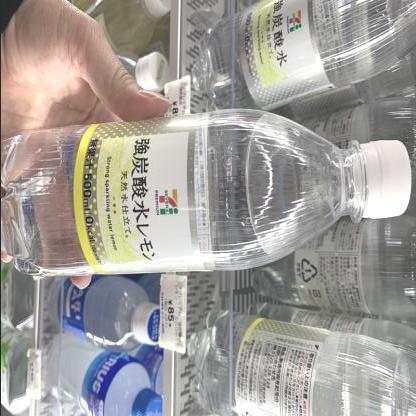bottle: (0, 108, 414, 278), (187, 0, 416, 115), (189, 309, 416, 416), (240, 203, 415, 324), (33, 326, 165, 415), (44, 274, 164, 350), (116, 40, 169, 118)
